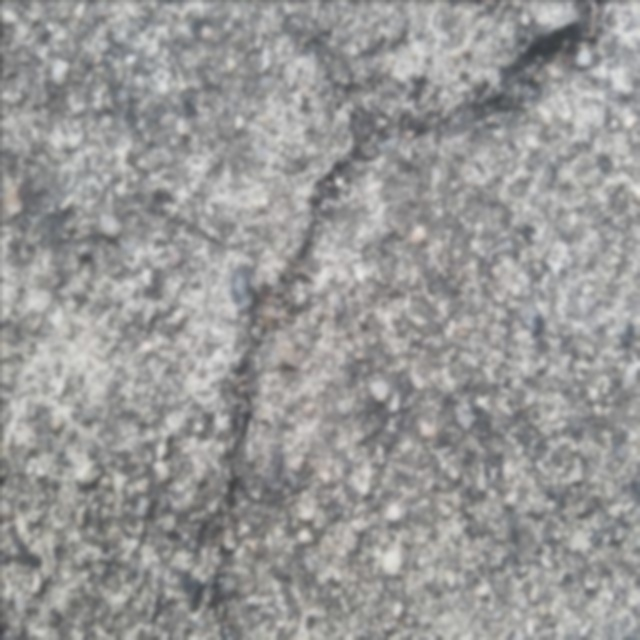SurfaceCrack: (119, 4, 638, 637)
